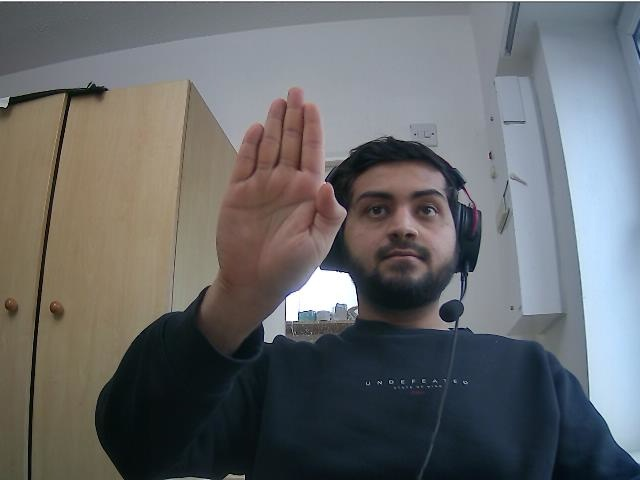up: (214, 85, 348, 282)
